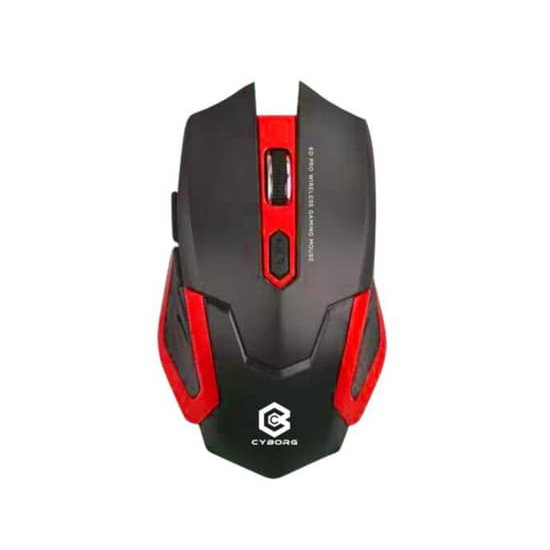Mouse: (145, 73, 391, 489)
